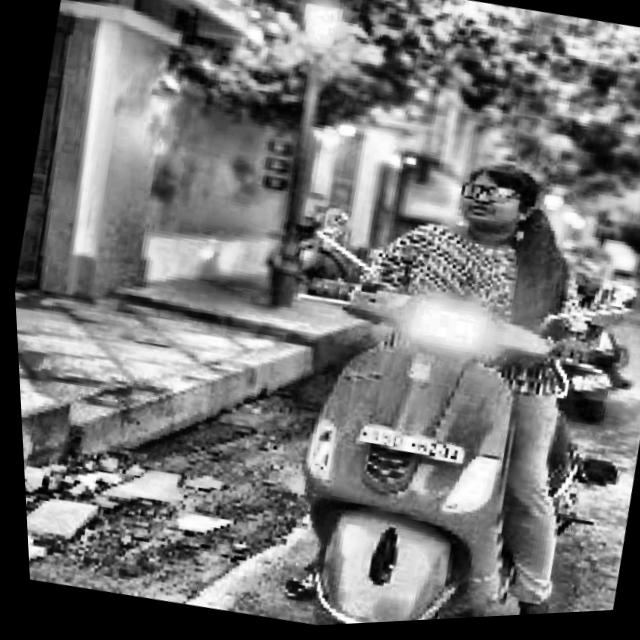motorcycle: (229, 188, 640, 631)
